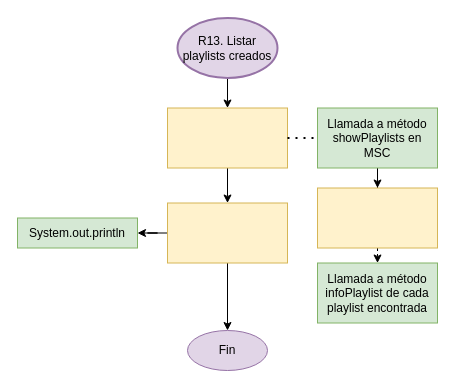
This 455x388 diagram has some shape labels left out. Here are the shapes that lost their labels. From the top down, the centre of each, then its label:
point (227, 137): Selección de la opción para listar usuarios en menú
point (227, 232): Imprimir en pantalla retorno del método
point (377, 217): Patrón de recorrido total del arreglo playlists
